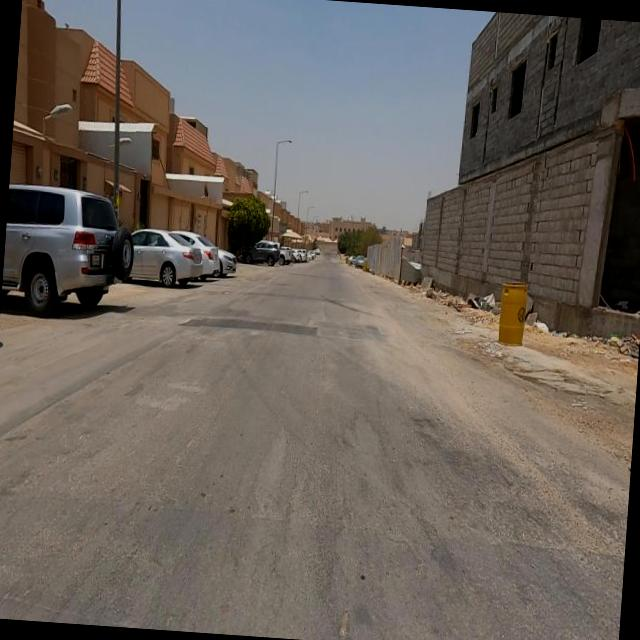debris: (495, 259, 596, 399), (430, 262, 528, 348), (390, 249, 464, 323), (574, 301, 640, 383)
